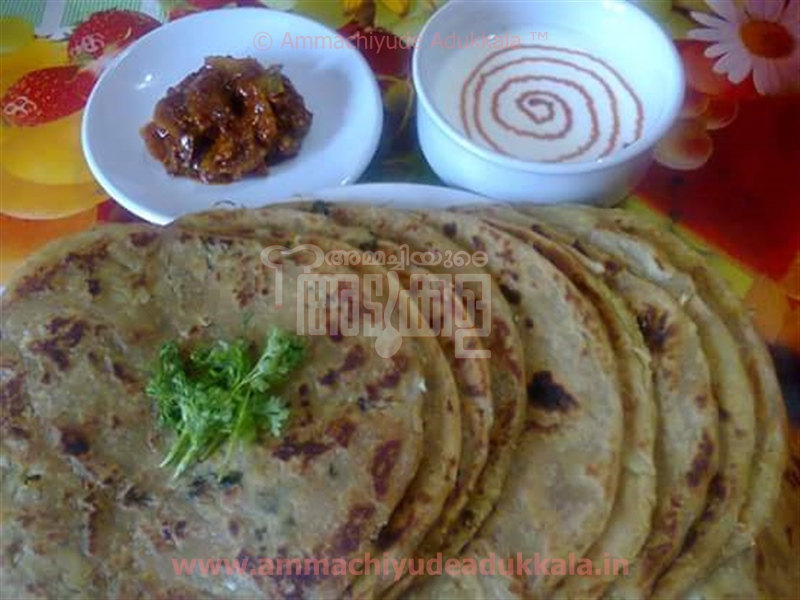aloo_paratha: (1, 204, 788, 589)
